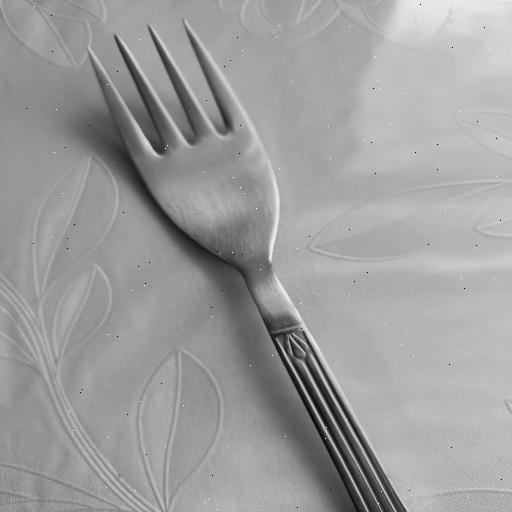fork: (84, 16, 410, 512)
